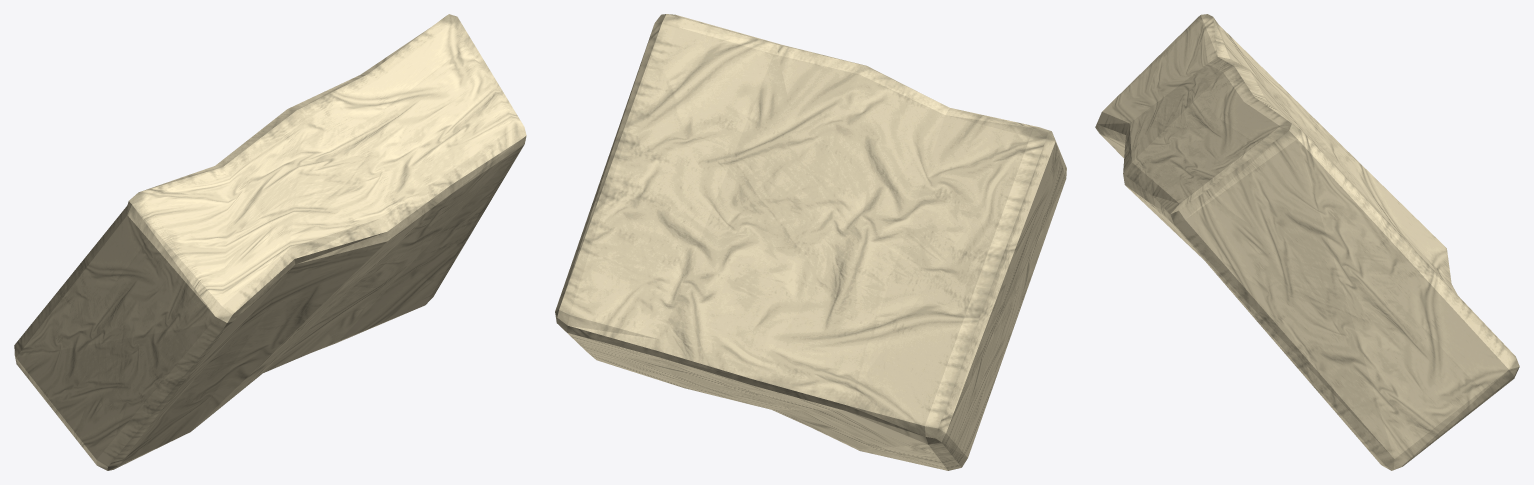
Rendered from ISS_INT_props_Square_Bag_2.FBX.
3 views of the same model, side by side, from view 1: azimuth 30°, elevation 25°; view 2: azimuth 150°, elevation 25°; view 3: azimuth 270°, elevation 25° (orthographic). The views are drawn at different scales.
Visible parts, largest first — view 1: Object007; view 2: Object007; view 3: Object007.
Boxes of the visible parts, bbox=[...] form: Object007: bbox=[14, 14, 526, 470]; Object007: bbox=[555, 14, 1066, 470]; Object007: bbox=[1095, 14, 1519, 470].
Bounding box in the file's own units: 0.0433 × 0.0406 × 0.0396.
